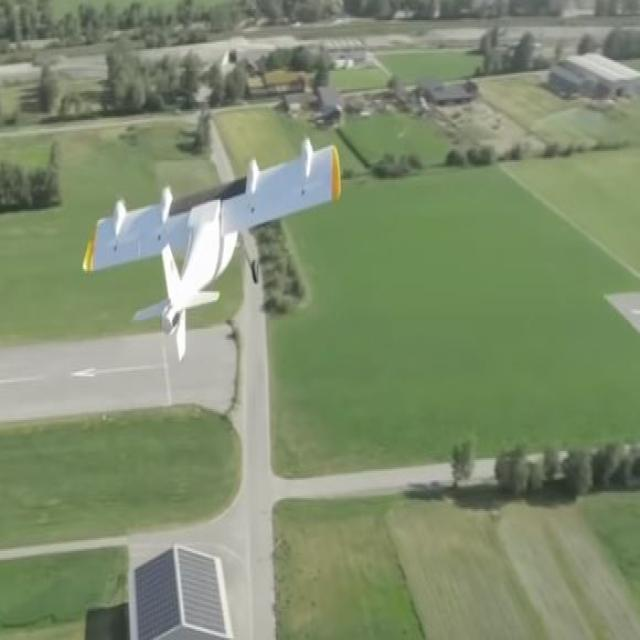iha: (81, 136, 341, 362)
